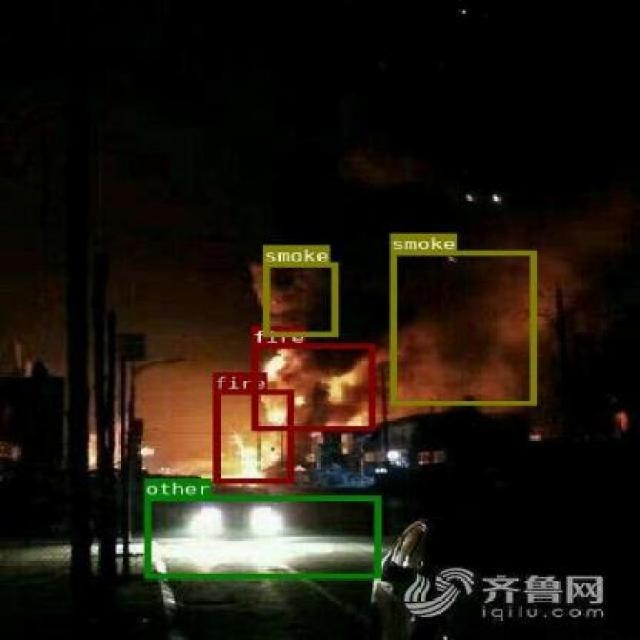Fire: (251, 343, 374, 429), (212, 388, 292, 482)
Smoke: (388, 250, 536, 404), (261, 260, 337, 336)
